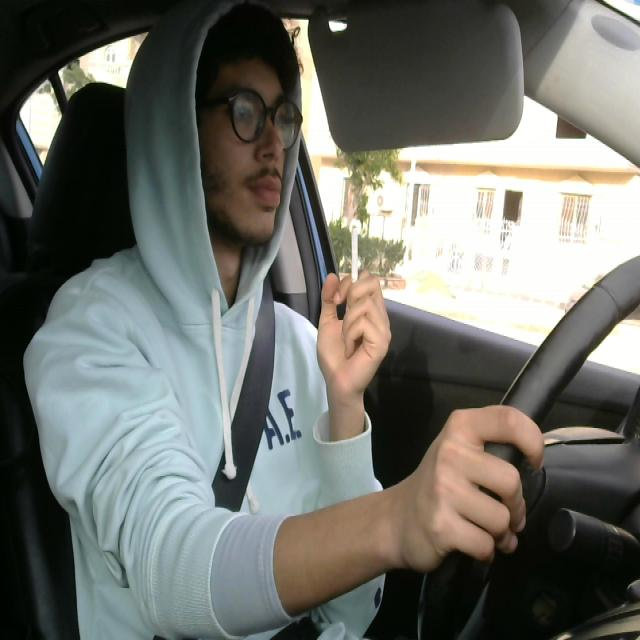smoking: (346, 223, 367, 314)
